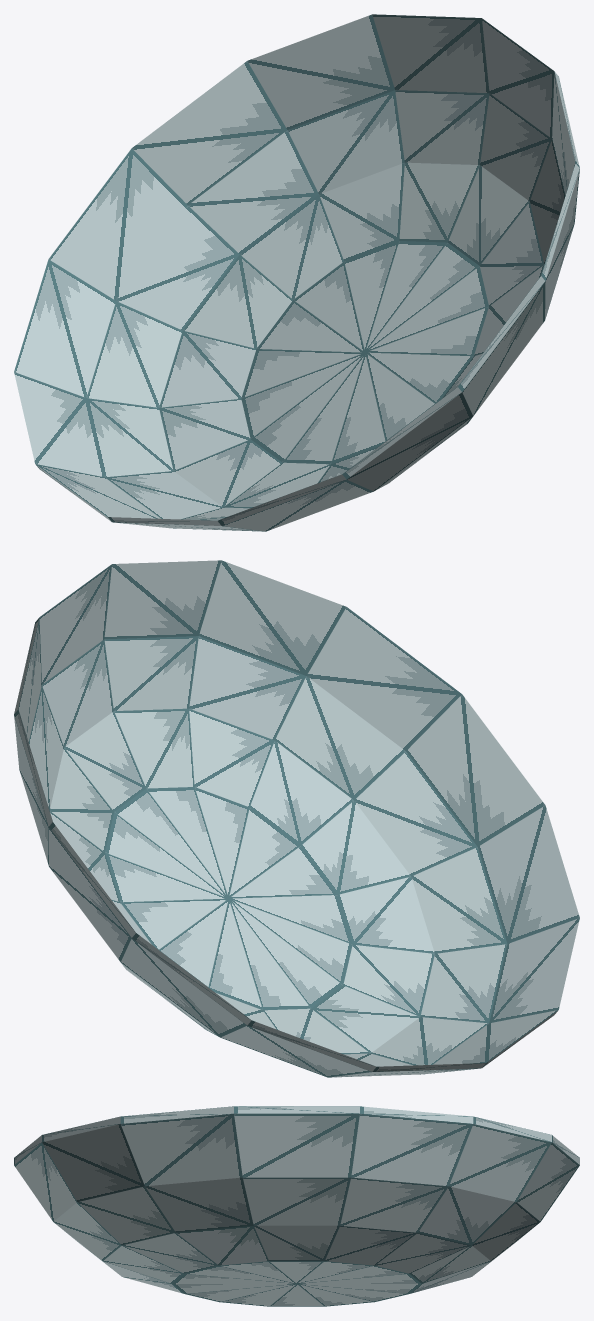
File: frequency_module_radar.obj
The picture shows the model from 3 angles, top to bottom: view 1: azimuth 30°, elevation 25°; view 2: azimuth 150°, elevation 25°; view 3: azimuth 270°, elevation 25°; orthographic projection. The views are drawn at different scales.
Visible parts, largest first — view 1: Radar; view 2: Radar; view 3: Radar.
Boxes of the visible parts, x1=… form: Radar: x1=14, y1=14, x2=579, y2=531; Radar: x1=14, y1=560, x2=579, y2=1077; Radar: x1=14, y1=1106, x2=579, y2=1306.
Bounding box in the file's own units: 0.8296 × 0.6517 × 1.03.
